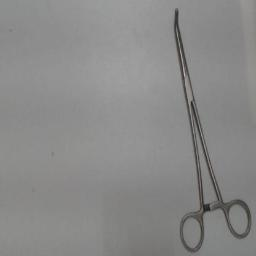Lahey Forceps: (170, 3, 254, 255)
